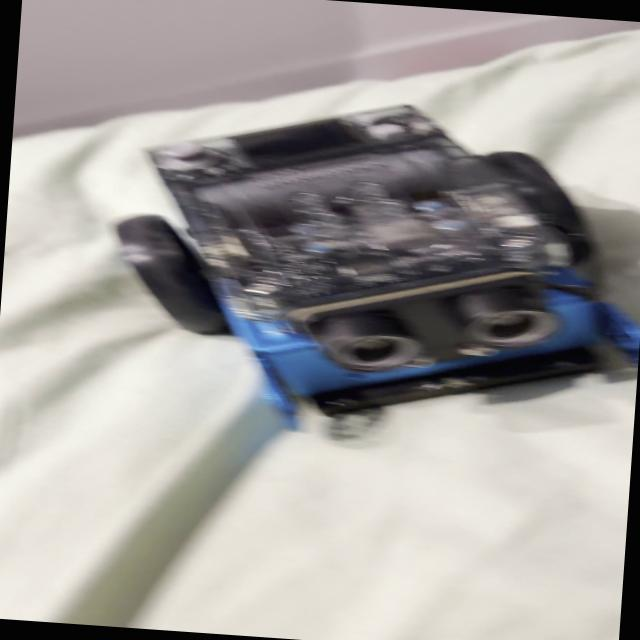mbot-detection: (81, 74, 640, 477)
